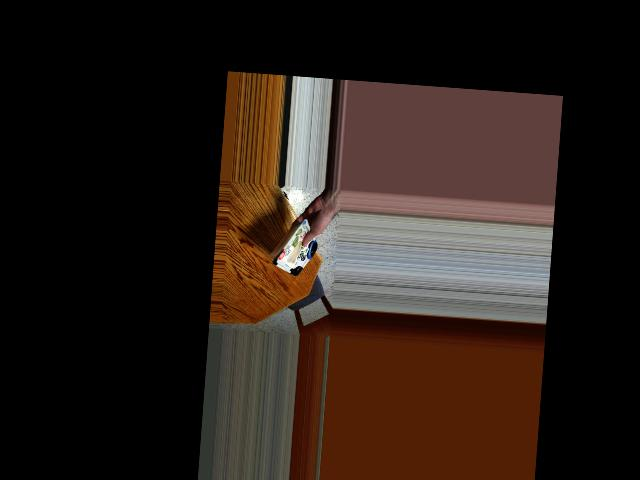cheese: (260, 220, 320, 281)
